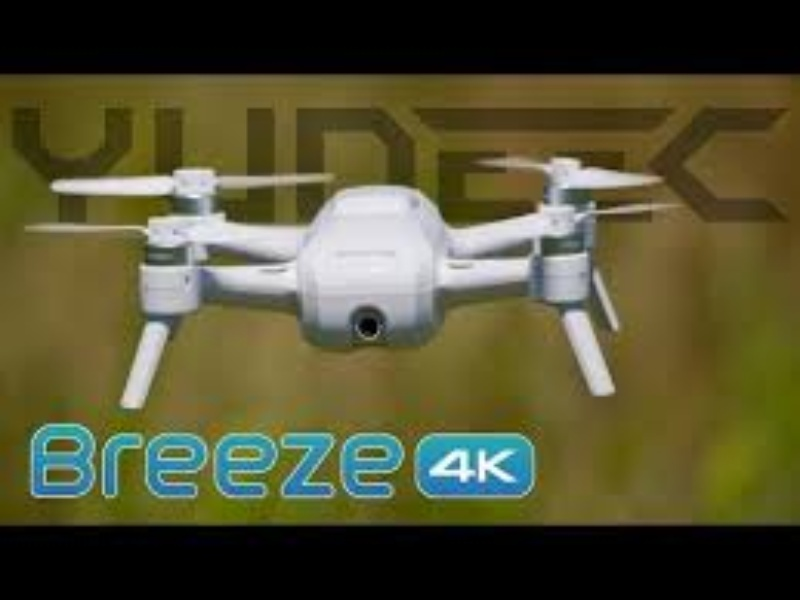drone: (50, 149, 648, 405)
